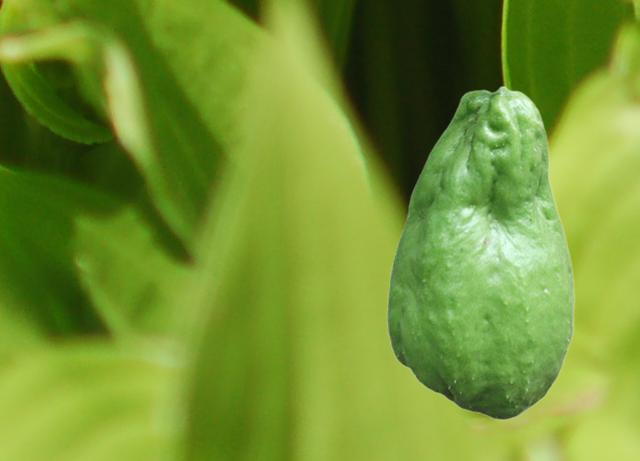sayote: (386, 85, 574, 419)
